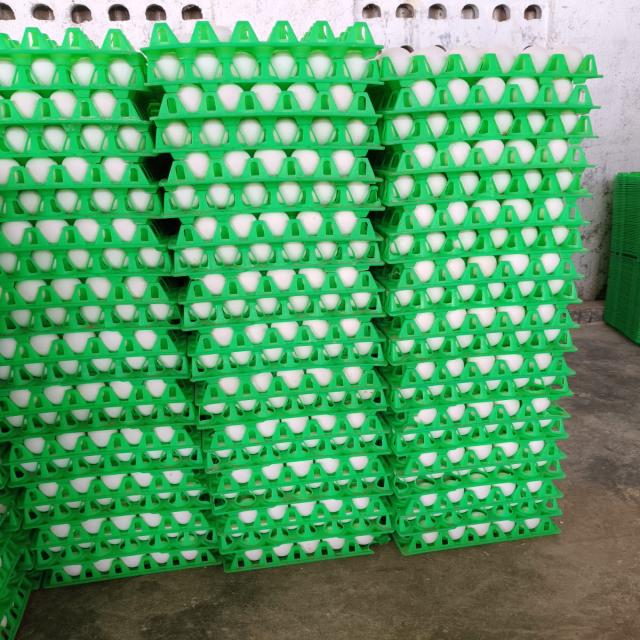egg_tray: (385, 304, 573, 496), (382, 306, 572, 492), (163, 118, 379, 273), (12, 426, 216, 584), (185, 267, 383, 428), (186, 267, 383, 427), (203, 402, 390, 570), (195, 318, 388, 478), (374, 47, 595, 182), (204, 413, 391, 570), (156, 85, 378, 213), (386, 398, 566, 552), (163, 147, 380, 274), (163, 148, 379, 272), (375, 197, 582, 314), (375, 198, 583, 314), (25, 462, 219, 586), (382, 140, 589, 254), (3, 380, 202, 497), (190, 316, 383, 435), (377, 198, 582, 307), (189, 316, 383, 426), (211, 452, 391, 570), (0, 276, 188, 388), (0, 157, 171, 280), (211, 447, 391, 563), (380, 304, 575, 411), (190, 316, 382, 423), (389, 403, 566, 518), (0, 28, 152, 160), (377, 132, 588, 224), (385, 398, 565, 497), (153, 79, 379, 156), (385, 401, 566, 496), (151, 84, 380, 158), (152, 84, 379, 158), (142, 21, 380, 91), (373, 196, 584, 272), (391, 461, 561, 554), (372, 46, 598, 114), (381, 138, 589, 210), (392, 464, 561, 552), (161, 150, 379, 218), (378, 108, 595, 176), (392, 468, 562, 554), (379, 103, 595, 170), (376, 253, 579, 324), (377, 138, 588, 206), (374, 78, 594, 142), (169, 210, 382, 276), (35, 509, 217, 586), (217, 494, 392, 570), (384, 398, 567, 469), (179, 266, 384, 329), (5, 424, 203, 488), (379, 348, 573, 412), (5, 423, 202, 486), (377, 303, 578, 364), (187, 318, 384, 379), (203, 412, 389, 476), (0, 379, 195, 440), (195, 366, 386, 428), (0, 379, 194, 439), (390, 469, 562, 536), (199, 318, 379, 382), (23, 468, 210, 529), (0, 275, 181, 337), (0, 329, 189, 388), (216, 488, 390, 552), (0, 90, 153, 161), (0, 156, 162, 223), (210, 455, 390, 515), (36, 507, 212, 568), (381, 108, 595, 158), (0, 218, 171, 280), (0, 27, 148, 98), (44, 530, 220, 587), (394, 498, 561, 555), (45, 532, 220, 586), (379, 45, 600, 86), (381, 167, 589, 208), (222, 523, 389, 572), (398, 510, 556, 552), (219, 505, 324, 568), (0, 443, 32, 582), (0, 535, 41, 640), (0, 515, 39, 620), (0, 487, 34, 607), (0, 487, 33, 610), (610, 172, 639, 292), (0, 528, 38, 618), (605, 252, 639, 343), (0, 443, 28, 544), (0, 568, 39, 640), (0, 519, 34, 601), (0, 527, 33, 609), (0, 572, 39, 640), (0, 529, 33, 595), (0, 443, 22, 542), (0, 572, 31, 640), (10, 530, 41, 588), (0, 463, 22, 532), (0, 571, 21, 640), (383, 227, 429, 257), (347, 94, 375, 136), (0, 443, 13, 525), (447, 141, 486, 162), (140, 426, 186, 440), (219, 428, 242, 454), (338, 518, 365, 539), (397, 521, 436, 535), (472, 208, 499, 228), (365, 514, 388, 537), (514, 47, 540, 67), (279, 442, 313, 457), (102, 430, 137, 444), (301, 442, 331, 456), (207, 120, 224, 144), (623, 222, 636, 252), (352, 340, 379, 354), (412, 141, 435, 157), (546, 229, 566, 246), (381, 212, 403, 225), (430, 235, 445, 252), (154, 425, 172, 439), (559, 117, 573, 134), (553, 376, 566, 394), (299, 500, 338, 506), (415, 216, 434, 228), (76, 383, 100, 392), (549, 55, 563, 70), (44, 387, 67, 396), (31, 494, 43, 511), (152, 556, 166, 570), (548, 204, 562, 217), (334, 435, 352, 445), (505, 399, 525, 408), (451, 142, 469, 152), (514, 141, 533, 150), (0, 443, 10, 460), (328, 344, 343, 355), (70, 409, 89, 417), (515, 144, 530, 154), (358, 433, 382, 439), (120, 429, 135, 438), (75, 436, 86, 448), (482, 52, 495, 62), (315, 416, 331, 424), (317, 416, 331, 425), (542, 490, 560, 497), (567, 48, 581, 57), (390, 50, 405, 58), (308, 425, 318, 436), (518, 211, 530, 220), (450, 148, 459, 159), (234, 451, 245, 460), (165, 95, 179, 102), (317, 367, 331, 374), (628, 207, 635, 220), (548, 374, 557, 384), (276, 441, 291, 447), (210, 353, 219, 363), (417, 144, 432, 150), (76, 423, 90, 429), (307, 96, 314, 108), (546, 402, 554, 412), (149, 449, 162, 455), (17, 514, 22, 529), (0, 619, 6, 631), (0, 490, 6, 502), (421, 477, 429, 486), (174, 559, 182, 568), (306, 438, 318, 444), (436, 216, 445, 224), (253, 376, 265, 382), (547, 407, 557, 414), (209, 95, 215, 106), (571, 60, 577, 71), (273, 406, 286, 411), (244, 96, 254, 102), (172, 384, 180, 391), (278, 430, 285, 438), (381, 58, 388, 66), (458, 212, 466, 219), (587, 56, 592, 67), (225, 378, 234, 384), (419, 234, 425, 243), (187, 446, 197, 451), (182, 93, 190, 99), (278, 428, 284, 436), (411, 414, 419, 420), (222, 452, 231, 457), (184, 562, 199, 565), (298, 91, 303, 100), (12, 392, 19, 398), (544, 367, 550, 374), (423, 479, 429, 486), (257, 456, 264, 462), (220, 434, 227, 440), (307, 434, 313, 441), (573, 241, 579, 248), (252, 429, 257, 437), (168, 122, 177, 126), (142, 562, 148, 568), (466, 130, 475, 134), (339, 363, 343, 372), (616, 244, 622, 250), (356, 538, 363, 543), (531, 163, 542, 166), (270, 451, 274, 459), (198, 356, 202, 364), (382, 498, 386, 506), (354, 498, 362, 502), (532, 466, 538, 471), (423, 480, 428, 486), (149, 442, 156, 446), (372, 498, 379, 502), (545, 227, 552, 231), (469, 483, 474, 488), (255, 273, 260, 278), (474, 514, 480, 518), (79, 480, 83, 486), (183, 126, 186, 134), (225, 118, 228, 126), (232, 112, 236, 118), (190, 88, 198, 91), (273, 87, 279, 91), (396, 308, 402, 312), (496, 141, 502, 145), (617, 204, 621, 210), (510, 478, 517, 481), (9, 624, 12, 631), (118, 452, 125, 455), (287, 347, 290, 354), (236, 553, 239, 560), (12, 506, 17, 510), (3, 453, 7, 458), (357, 367, 361, 372), (382, 156, 386, 161), (505, 150, 510, 154), (617, 230, 622, 234), (511, 307, 517, 310), (411, 151, 414, 157), (273, 87, 279, 90), (265, 449, 268, 454), (388, 228, 393, 231), (396, 220, 401, 223), (261, 349, 266, 352), (33, 584, 38, 587), (368, 538, 373, 541), (349, 513, 354, 516), (362, 520, 367, 523), (183, 442, 190, 444), (612, 296, 614, 303), (417, 158, 420, 162), (561, 141, 565, 144), (268, 490, 272, 493), (71, 482, 74, 486), (28, 406, 34, 408), (314, 442, 317, 446), (366, 438, 372, 440), (214, 433, 217, 437), (243, 425, 246, 429), (202, 290, 205, 294), (251, 102, 254, 106), (192, 94, 196, 97), (185, 88, 189, 91), (170, 561, 173, 565), (262, 447, 266, 450), (407, 246, 410, 250), (536, 61, 539, 65), (422, 80, 428, 82), (478, 151, 482, 154), (471, 150, 475, 153), (0, 624, 2, 630), (612, 242, 615, 246), (12, 507, 17, 509), (12, 492, 17, 494), (259, 123, 261, 128), (201, 557, 206, 559), (316, 556, 321, 558), (324, 540, 329, 542), (336, 554, 341, 556), (175, 429, 180, 431), (125, 571, 128, 574), (3, 635, 6, 638), (3, 352, 6, 355), (189, 215, 192, 218), (252, 450, 255, 453), (263, 422, 266, 425), (236, 558, 239, 561), (341, 430, 344, 433), (353, 414, 356, 417), (487, 205, 490, 208), (238, 485, 241, 488), (505, 74, 508, 77), (484, 63, 487, 66), (505, 157, 508, 160), (340, 440, 342, 444), (357, 424, 361, 426), (370, 434, 374, 436), (87, 470, 91, 472), (74, 434, 78, 436), (575, 158, 579, 160), (403, 158, 405, 162), (0, 613, 2, 617), (373, 140, 377, 142), (383, 247, 385, 251), (19, 522, 21, 526), (132, 572, 135, 574), (363, 149, 365, 152), (447, 520, 450, 522), (11, 620, 13, 623), (499, 142, 502, 144), (207, 445, 209, 448), (238, 442, 241, 444), (322, 273, 324, 276), (254, 140, 257, 142), (307, 452, 310, 454), (283, 443, 286, 445), (310, 433, 313, 435), (21, 158, 23, 161), (67, 443, 70, 445), (191, 442, 194, 444), (14, 628, 16, 631), (11, 534, 14, 536), (523, 203, 525, 206), (454, 326, 457, 328), (537, 65, 539, 68), (460, 80, 463, 82), (334, 460, 337, 462), (231, 564, 234, 566), (340, 500, 342, 503), (257, 274, 259, 277), (199, 136, 201, 139), (514, 151, 516, 154), (6, 470, 7, 475), (257, 564, 262, 565), (351, 368, 356, 369), (547, 54, 548, 59), (376, 540, 381, 541), (365, 499, 370, 500), (171, 398, 175, 399), (101, 100, 103, 102), (251, 462, 255, 463), (281, 131, 283, 133), (207, 562, 211, 563), (485, 318, 487, 320), (343, 436, 345, 438), (238, 461, 240, 463), (371, 440, 373, 442), (233, 300, 237, 301), (242, 482, 244, 484), (373, 407, 375, 409), (359, 352, 361, 354), (468, 178, 470, 180), (277, 522, 279, 524), (297, 418, 299, 420), (559, 203, 563, 204), (3, 636, 5, 638), (209, 558, 212, 559), (572, 323, 573, 326), (332, 447, 335, 448), (254, 447, 257, 448), (341, 286, 342, 289), (470, 258, 473, 259), (278, 398, 281, 399), (225, 367, 228, 368), (378, 358, 381, 359), (394, 260, 397, 261), (454, 327, 456, 328), (429, 309, 431, 310), (570, 285, 572, 286), (492, 514, 494, 515), (177, 398, 179, 399), (241, 447, 243, 448), (302, 447, 304, 448), (281, 443, 282, 445), (425, 540, 427, 541), (190, 215, 191, 217), (276, 126, 277, 128), (465, 127, 466, 129), (390, 323, 391, 325), (352, 452, 354, 453), (228, 559, 230, 560), (363, 425, 365, 426), (66, 453, 68, 454), (184, 450, 186, 451), (50, 442, 51, 444), (0, 588, 1, 590), (106, 543, 108, 544), (243, 302, 244, 304), (498, 136, 499, 138), (486, 416, 487, 418), (370, 365, 372, 366), (582, 157, 583, 159), (498, 166, 499, 168), (499, 258, 501, 259), (490, 150, 492, 151), (358, 514, 360, 515), (373, 147, 375, 148), (278, 111, 279, 113), (417, 309, 419, 310), (273, 536, 275, 537), (404, 221, 405, 223), (147, 483, 148, 484), (178, 478, 179, 479), (27, 407, 28, 408), (189, 405, 190, 406), (342, 436, 343, 437), (187, 100, 188, 101), (560, 474, 561, 475), (472, 127, 473, 128), (576, 123, 577, 124), (516, 325, 517, 326), (258, 445, 259, 446), (447, 309, 448, 310), (476, 514, 477, 515), (267, 358, 268, 359), (294, 347, 295, 348), (471, 189, 472, 190), (542, 50, 543, 51), (227, 347, 228, 348), (244, 507, 245, 508), (251, 505, 252, 506), (536, 477, 537, 478), (494, 474, 495, 475), (409, 234, 410, 235), (429, 229, 430, 230), (443, 510, 443, 510), (493, 483, 494, 483), (577, 152, 580, 152), (44, 510, 46, 510), (96, 498, 97, 498), (141, 481, 141, 482), (165, 474, 165, 474), (174, 394, 174, 394), (189, 390, 190, 390), (325, 454, 325, 454), (311, 452, 312, 452), (290, 434, 290, 434), (181, 134, 182, 134), (176, 130, 177, 130), (311, 90, 312, 90), (552, 470, 553, 470), (254, 462, 254, 463), (370, 416, 370, 417), (71, 223, 72, 223), (25, 602, 25, 604), (558, 194, 561, 194), (556, 462, 556, 463), (330, 510, 330, 510), (250, 378, 250, 379), (316, 363, 317, 363), (29, 568, 30, 568), (467, 190, 468, 190), (560, 168, 561, 168), (579, 162, 579, 163), (503, 52, 503, 52), (556, 150, 556, 150), (461, 156, 461, 157), (447, 152, 448, 152), (461, 418, 461, 419), (447, 414, 448, 414), (334, 547, 334, 548), (322, 539, 323, 539), (198, 403, 200, 403), (172, 134, 172, 134), (45, 494, 48, 494), (50, 492, 50, 492), (394, 314, 394, 314), (141, 536, 145, 536), (110, 436, 110, 438)
